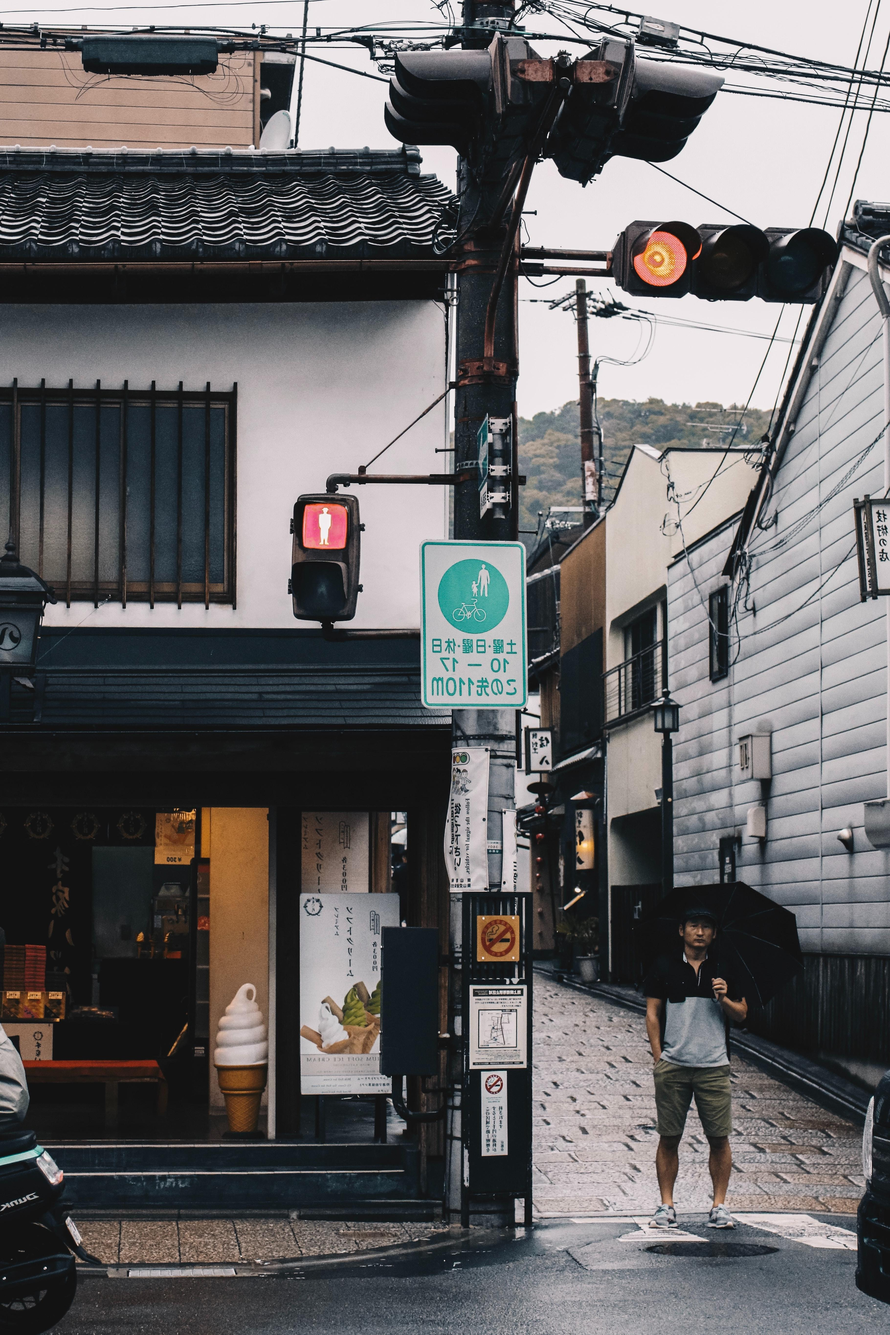red: (601, 215, 844, 320)
